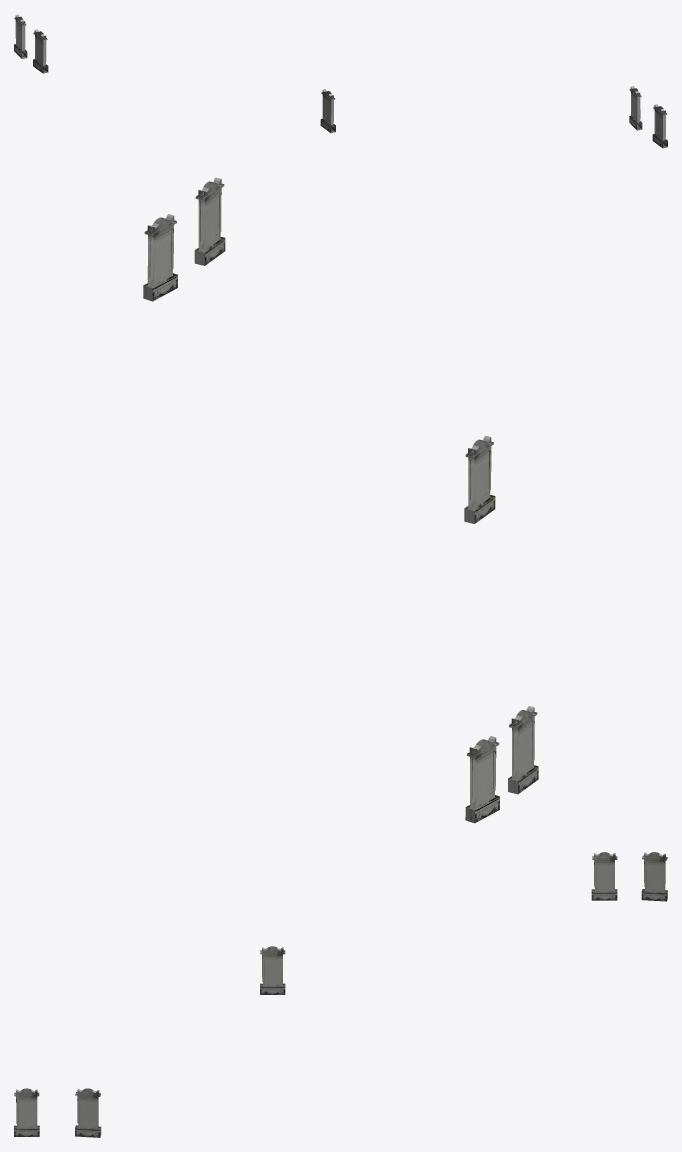
The model's file is material2.028_lev3.glb.
3 views of the same model, one above another, from view 1: azimuth 30°, elevation 25°; view 2: azimuth 150°, elevation 25°; view 3: azimuth 270°, elevation 25° (orthographic). The views are drawn at different scales.
Visible parts, largest first — view 1: material2.028_lev3; view 2: material2.028_lev3; view 3: material2.028_lev3.
Boxes of the visible parts, x1,y1,x2,y2 form: material2.028_lev3: (14, 14, 667, 148); material2.028_lev3: (143, 177, 538, 823); material2.028_lev3: (14, 852, 667, 1137).
Size of the model in its own units: 2.43 by 0.218 by 2.79.
Materials: 1 (1 with a texture image).
